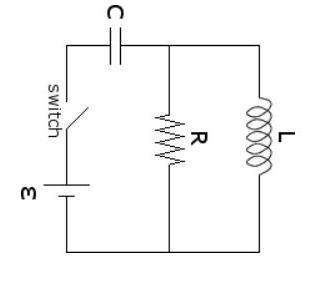Capacitor: (81, 19, 144, 81)
